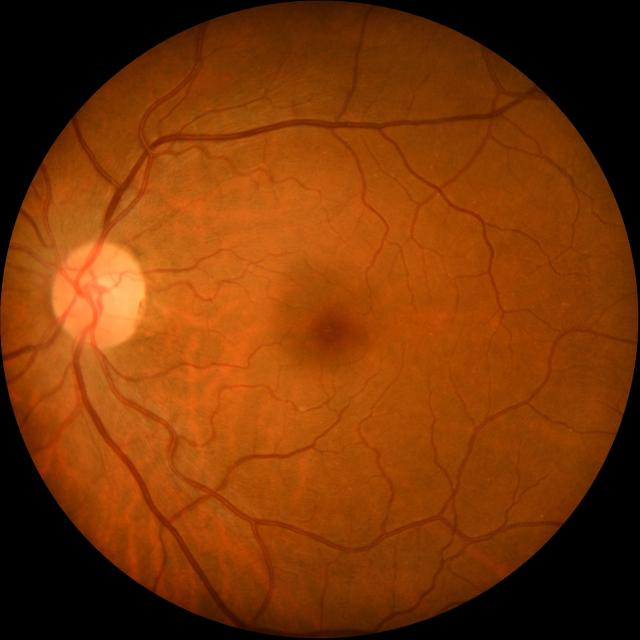OC: (81, 274, 112, 307)
OD: (51, 242, 143, 346)
